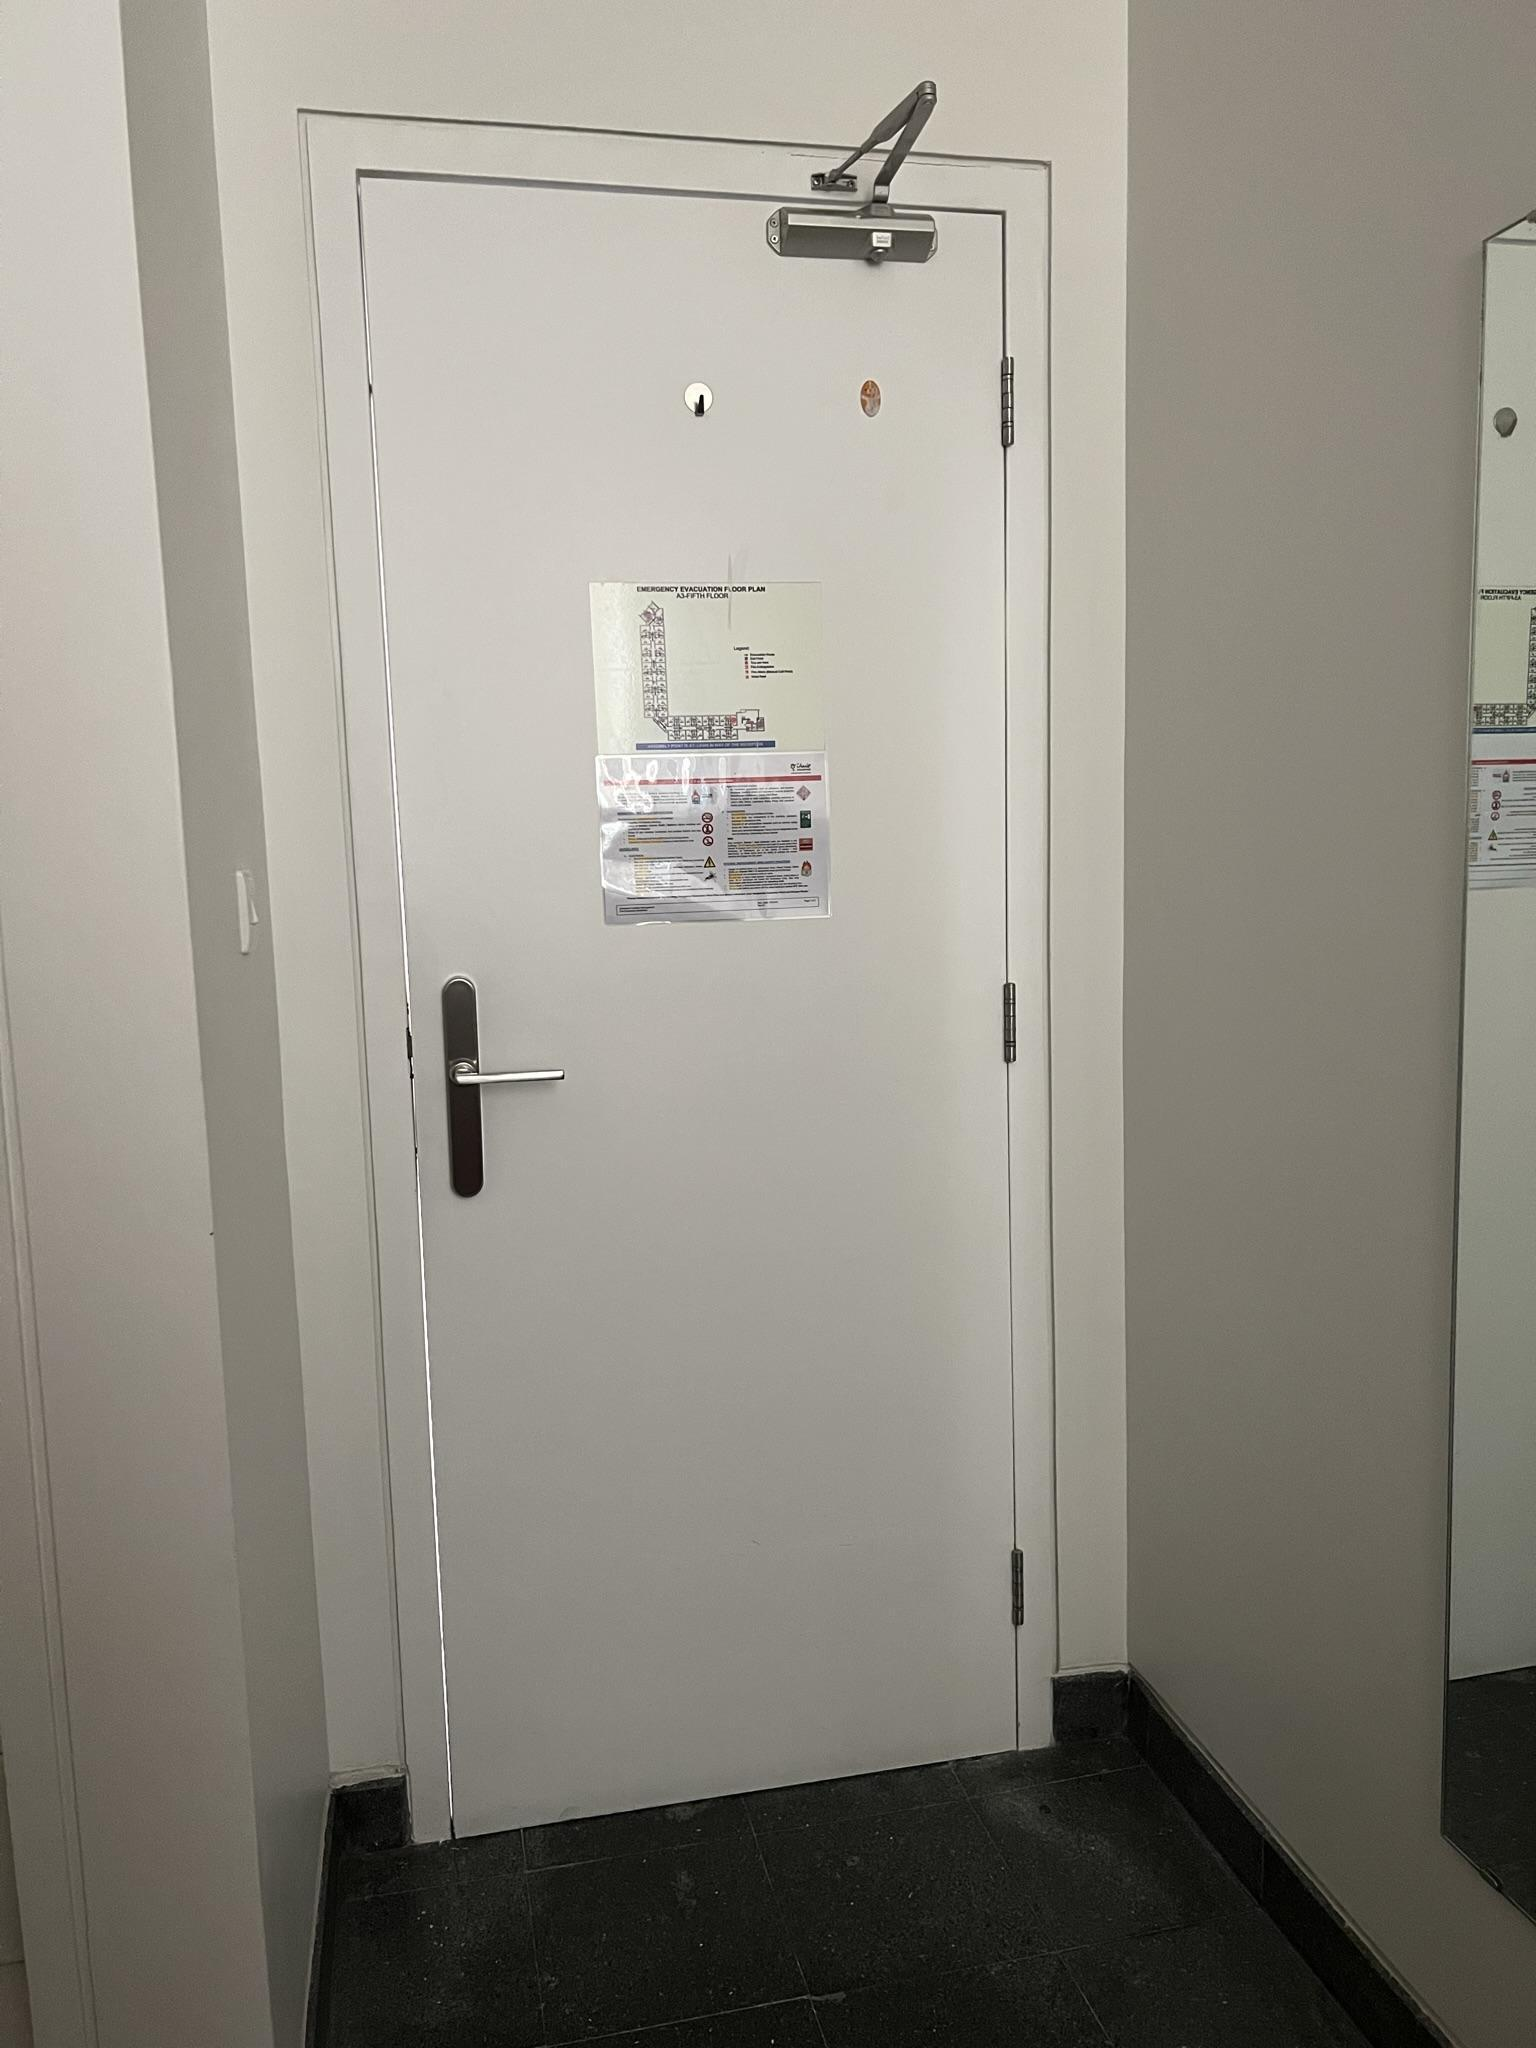door: (373, 181, 1025, 1790)
handle: (439, 972, 566, 1198)
